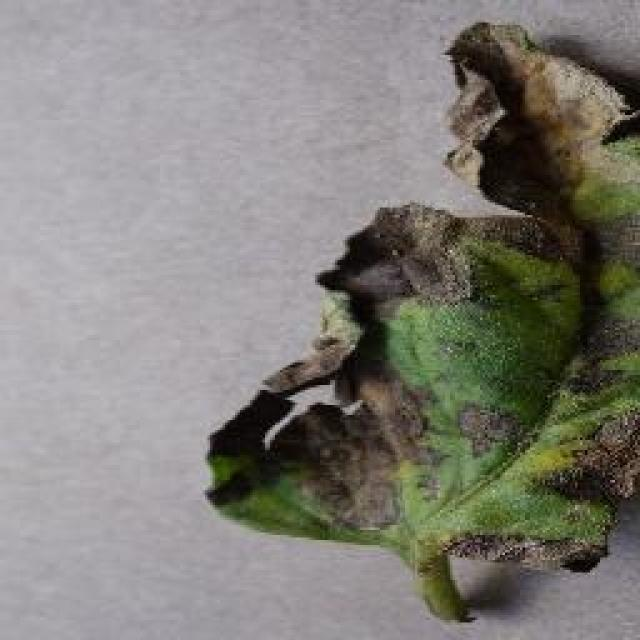Tomato___Early_blight: (205, 22, 638, 628)
